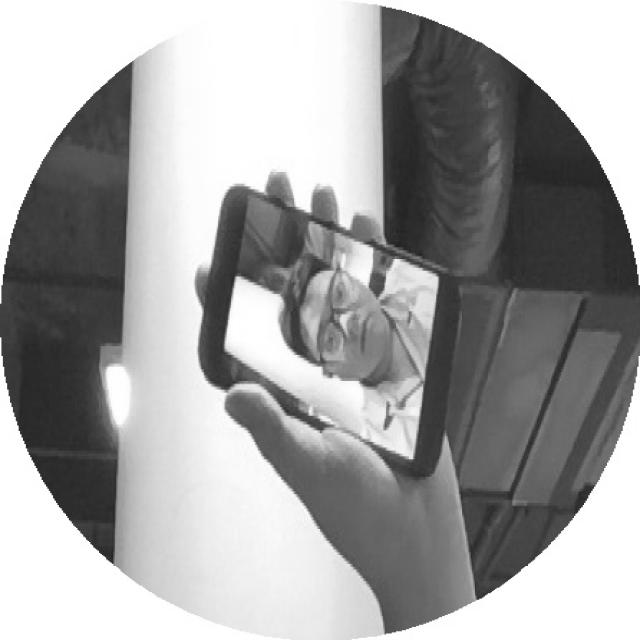fake: (187, 160, 477, 514), (196, 181, 469, 489)
